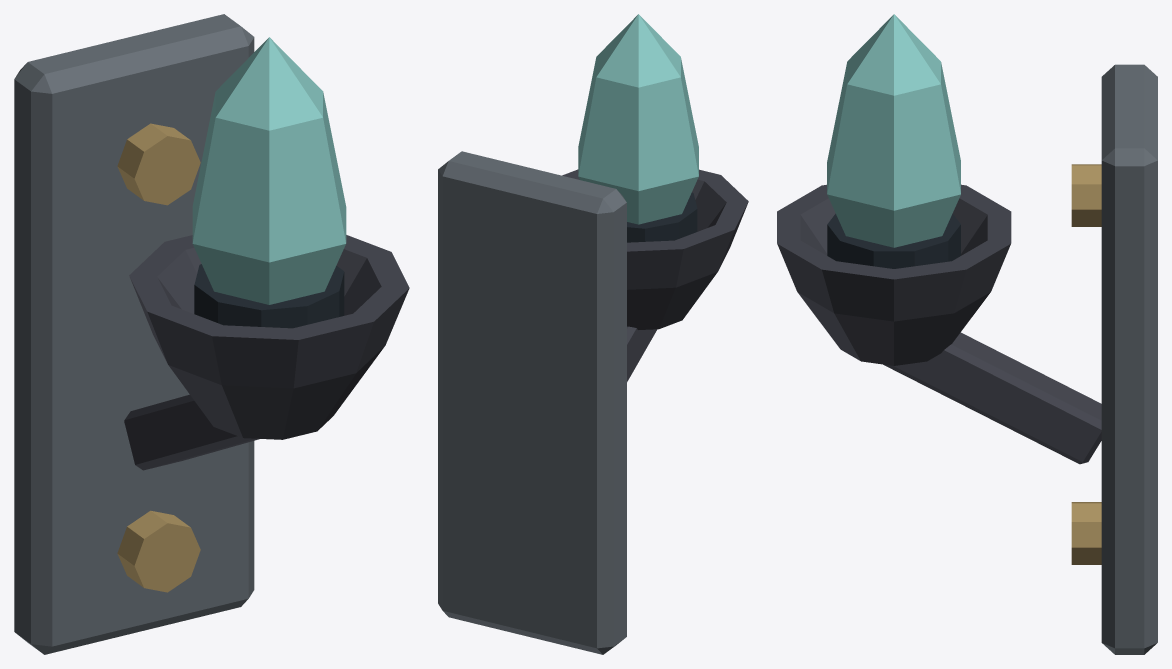
The model's file is 09_Wall_Sconce.glb.
3 renders of one model, left to right at view 1: azimuth 30°, elevation 25°; view 2: azimuth 150°, elevation 25°; view 3: azimuth 270°, elevation 25°, orthographic. The views are drawn at different scales.
Visible parts, largest first — view 1: 09_Wall_Sconce__Body; view 2: 09_Wall_Sconce__Body; view 3: 09_Wall_Sconce__Body.
Part boxes in pixels (<box>): 09_Wall_Sconce__Body: <box>14,14,409,654</box>; 09_Wall_Sconce__Body: <box>438,14,748,654</box>; 09_Wall_Sconce__Body: <box>777,14,1157,654</box>.
Size of the model in its own units: 0.7 by 1.88 by 1.08.
1 material, 1 textured.
